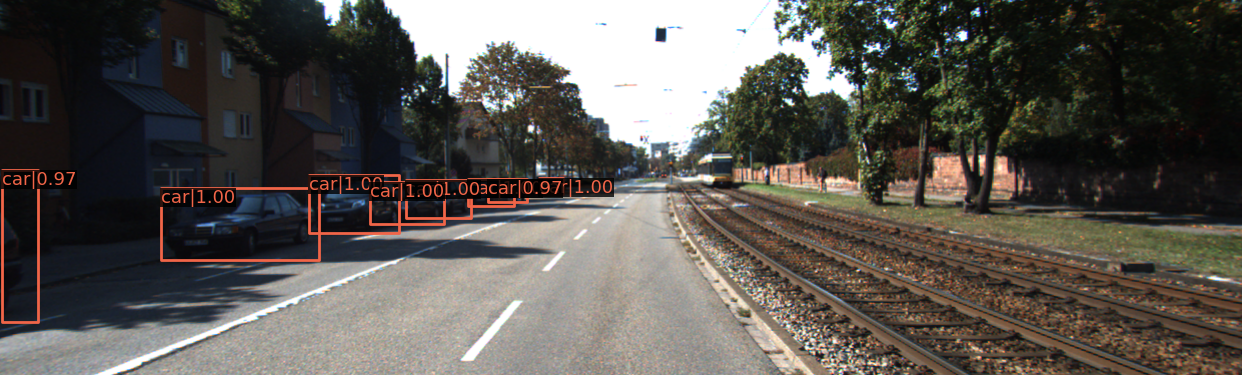car: (163, 191, 320, 262), (1, 192, 48, 323), (311, 178, 403, 236), (409, 179, 470, 219), (374, 187, 437, 225), (468, 183, 510, 209), (491, 182, 527, 205)
